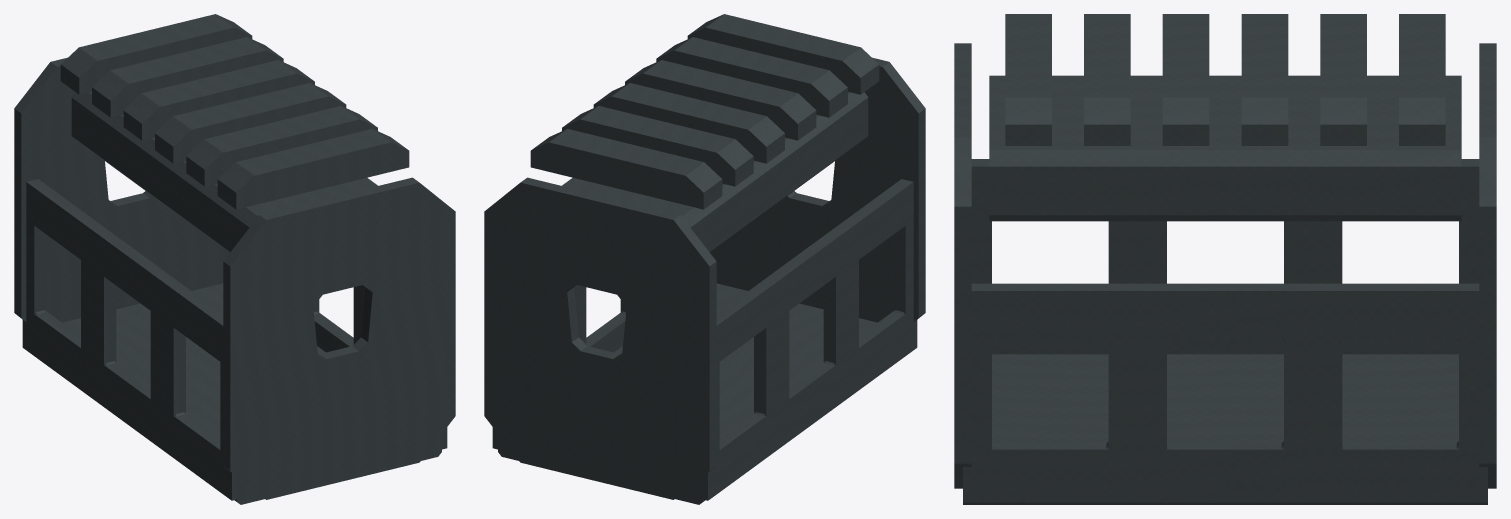
File: aksu_rail.glb
3 renders of one model, left to right at view 1: azimuth 30°, elevation 25°; view 2: azimuth 150°, elevation 25°; view 3: azimuth 270°, elevation 25°, orthographic. The views are drawn at different scales.
Visible parts, largest first — view 1: aksu_rail_vent_wall, aksu_rail_vent_wall.006; view 2: aksu_rail_vent_wall, aksu_rail_vent_wall.006; view 3: aksu_rail_vent_wall, aksu_rail_vent_wall.006.
Boxes of the visible parts, bbox=[...] form: aksu_rail_vent_wall: bbox=[14, 14, 455, 504]; aksu_rail_vent_wall.006: bbox=[22, 179, 447, 500]; aksu_rail_vent_wall: bbox=[484, 14, 925, 504]; aksu_rail_vent_wall.006: bbox=[492, 179, 917, 500]; aksu_rail_vent_wall: bbox=[954, 14, 1496, 504]; aksu_rail_vent_wall.006: bbox=[963, 159, 1487, 502].
Bounding box in the file's own units: 0.112 × 0.147 × 0.186.
1 material, 1 textured.
